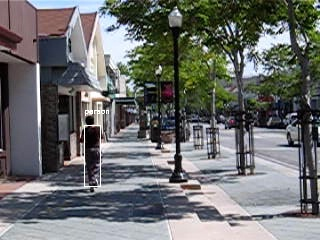person: (80, 116, 105, 194), (79, 116, 104, 194), (81, 116, 106, 194), (80, 115, 105, 193), (80, 117, 105, 195)
target_negative: (108, 14, 189, 236), (72, 101, 212, 138), (152, 58, 244, 104), (115, 215, 271, 233), (87, 222, 268, 235), (120, 143, 166, 187)
